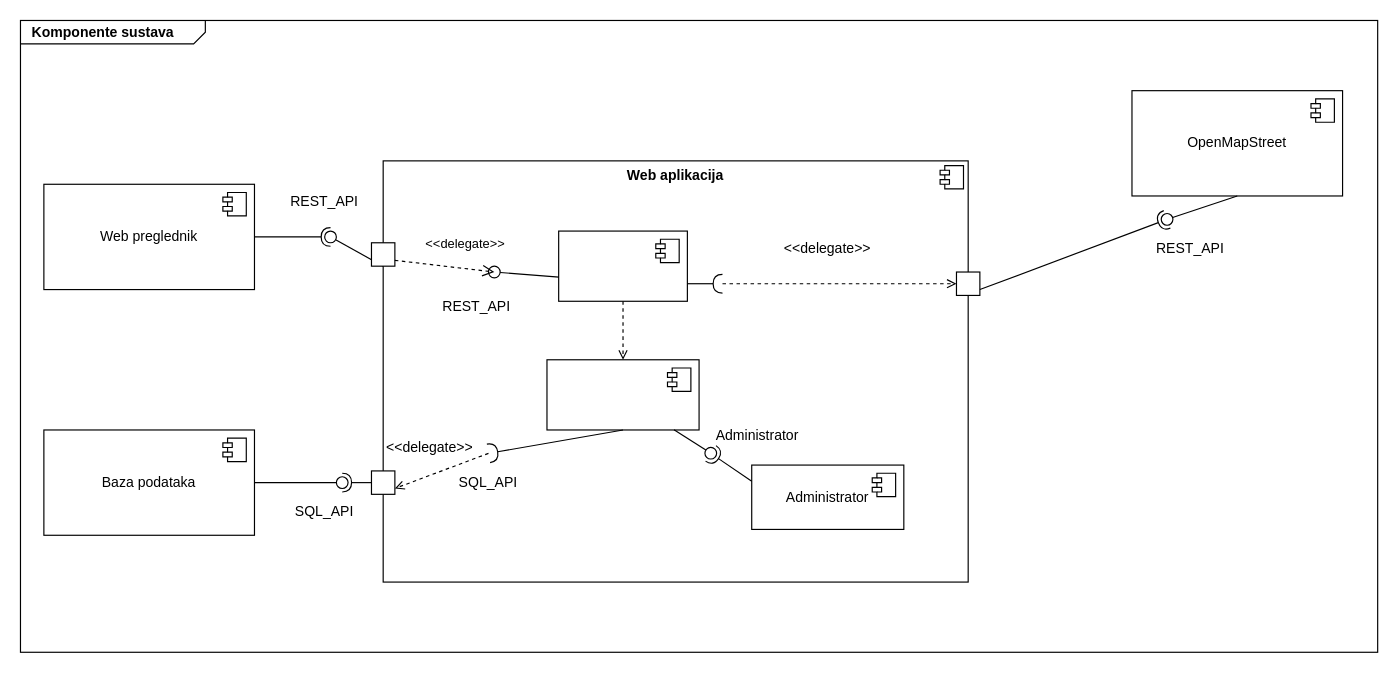
Image size: 1398x673. Some labels were removed from this diagram. The shapes that lost their labels are listed below. From the top down, each one's centre as x and y in pixels, then its label:
[622,265]: REST
[622,394]: Server
